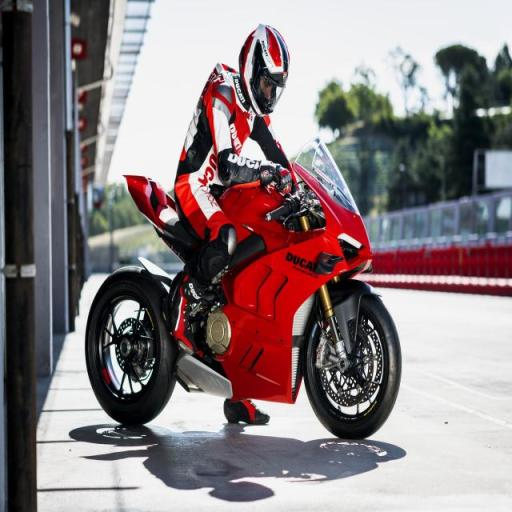Helmet: (234, 25, 296, 109)
Motor: (74, 161, 408, 437)
